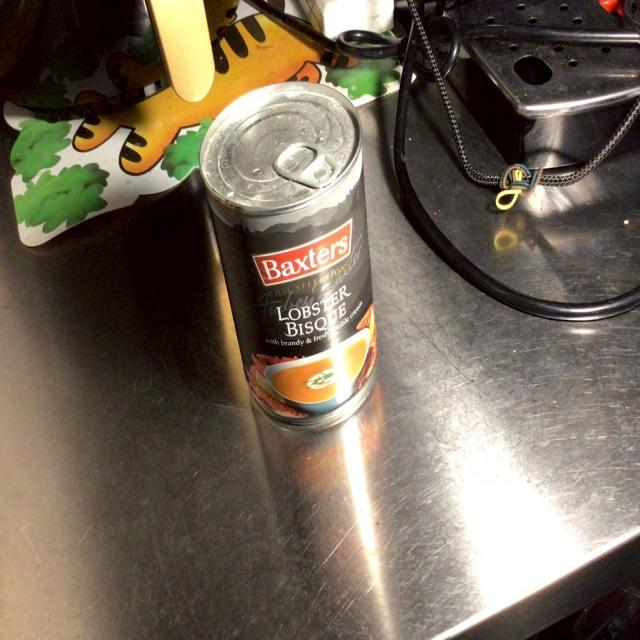can: (200, 83, 386, 437)
